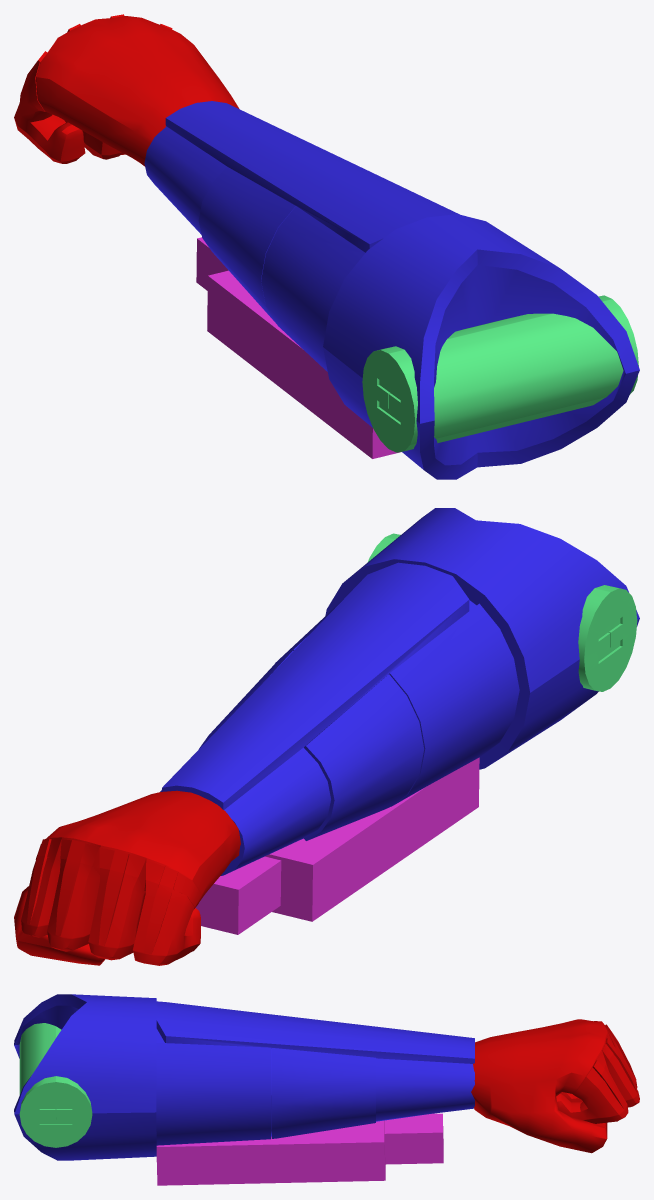
File: arm.fbx
3 views of the same model, one above another, from view 1: azimuth 30°, elevation 25°; view 2: azimuth 150°, elevation 25°; view 3: azimuth 270°, elevation 25° (orthographic). The views are drawn at different scales.
Visible parts, largest first — view 1: pCylinder20, pCylinder21, pCube45, pCube46; view 2: pCylinder20, pCube45, pCube46, pCylinder21; view 3: pCylinder20, pCube45, pCube46, pCylinder21.
Boxes of the visible parts, box(x1,y1,x2,y2) form: pCylinder20: box(144, 101, 639, 479); pCylinder21: box(362, 295, 638, 452); pCube45: box(14, 14, 239, 166); pCube46: box(196, 237, 400, 458); pCylinder20: box(160, 508, 639, 875); pCube45: box(14, 790, 240, 965); pCube46: box(195, 757, 479, 934); pCylinder21: box(368, 533, 637, 691); pCylinder20: box(14, 994, 474, 1160); pCube45: box(471, 1019, 639, 1153); pCube46: box(156, 1113, 443, 1185); pCylinder21: box(19, 1023, 92, 1147).
Size of the model in its own units: 0.2781 by 0.2778 by 0.9767.
